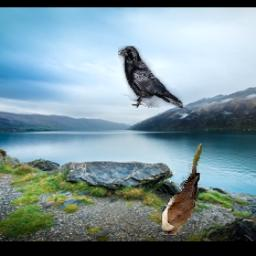Crow: (119, 46, 184, 108)
Cuckoo: (158, 144, 202, 236)
